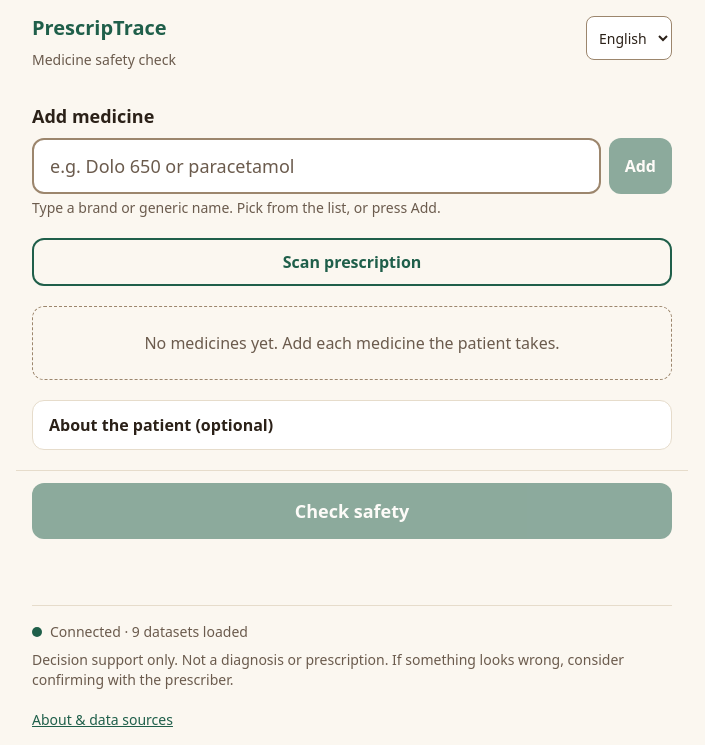
Test: adding medicines › picks from autocomplete with the keyboard and shows what it contains
The image size is (705, 745).
Type "dol" into the dropdown labelled "Add medicine" at (316, 166), box [32,138,601,194]
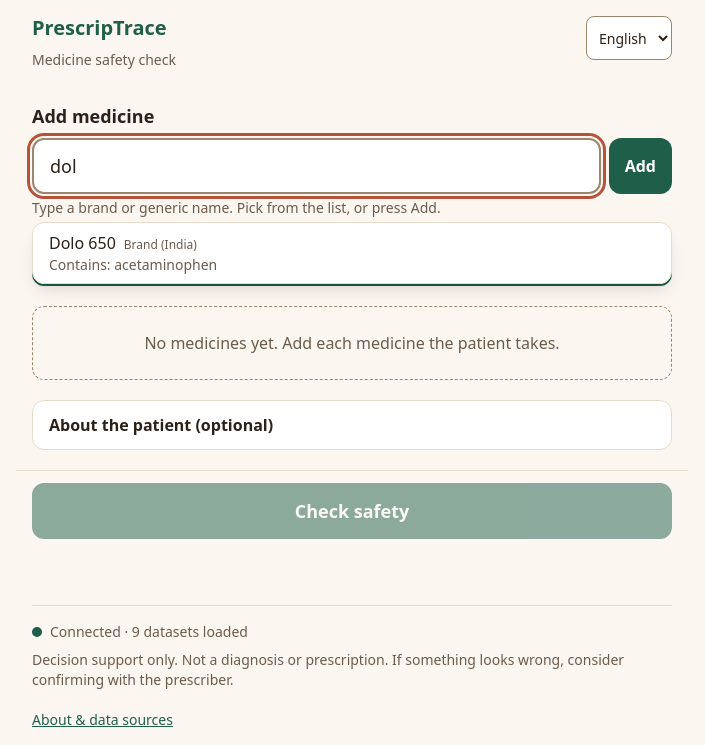
Expected: the option "Dolo 650Brand (India) Contains: acetaminophen" is shown, [49,232,217,274]
Press Arrowdown Enter
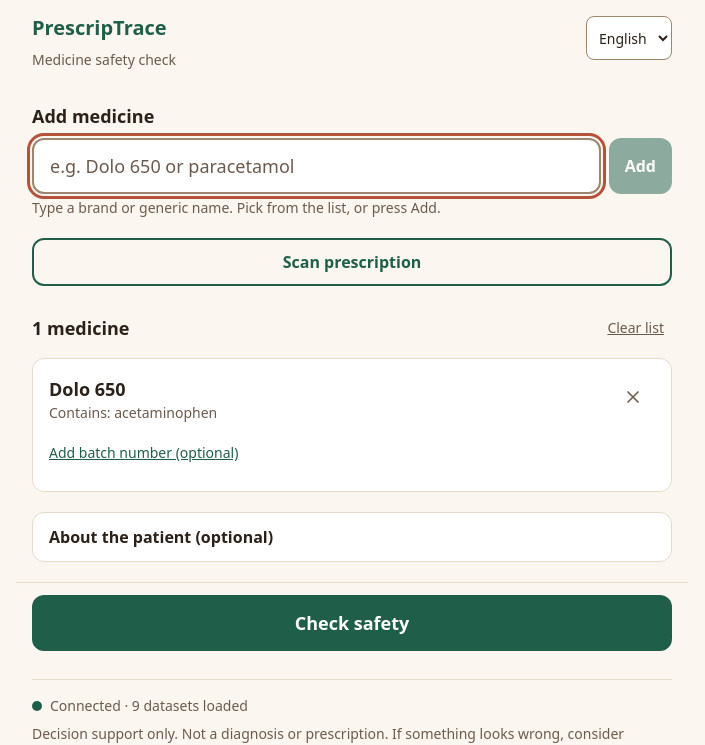
Expected: the text "Contains: acetaminophen" is shown, [49,403,217,423]
Expected: the button "Check safety" is enabled, [32,595,672,651]
